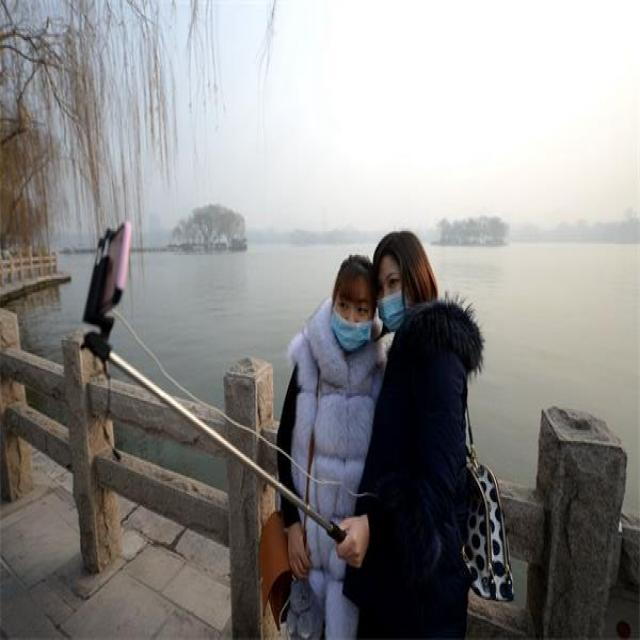mask: (334, 280, 372, 349), (378, 254, 409, 330)
